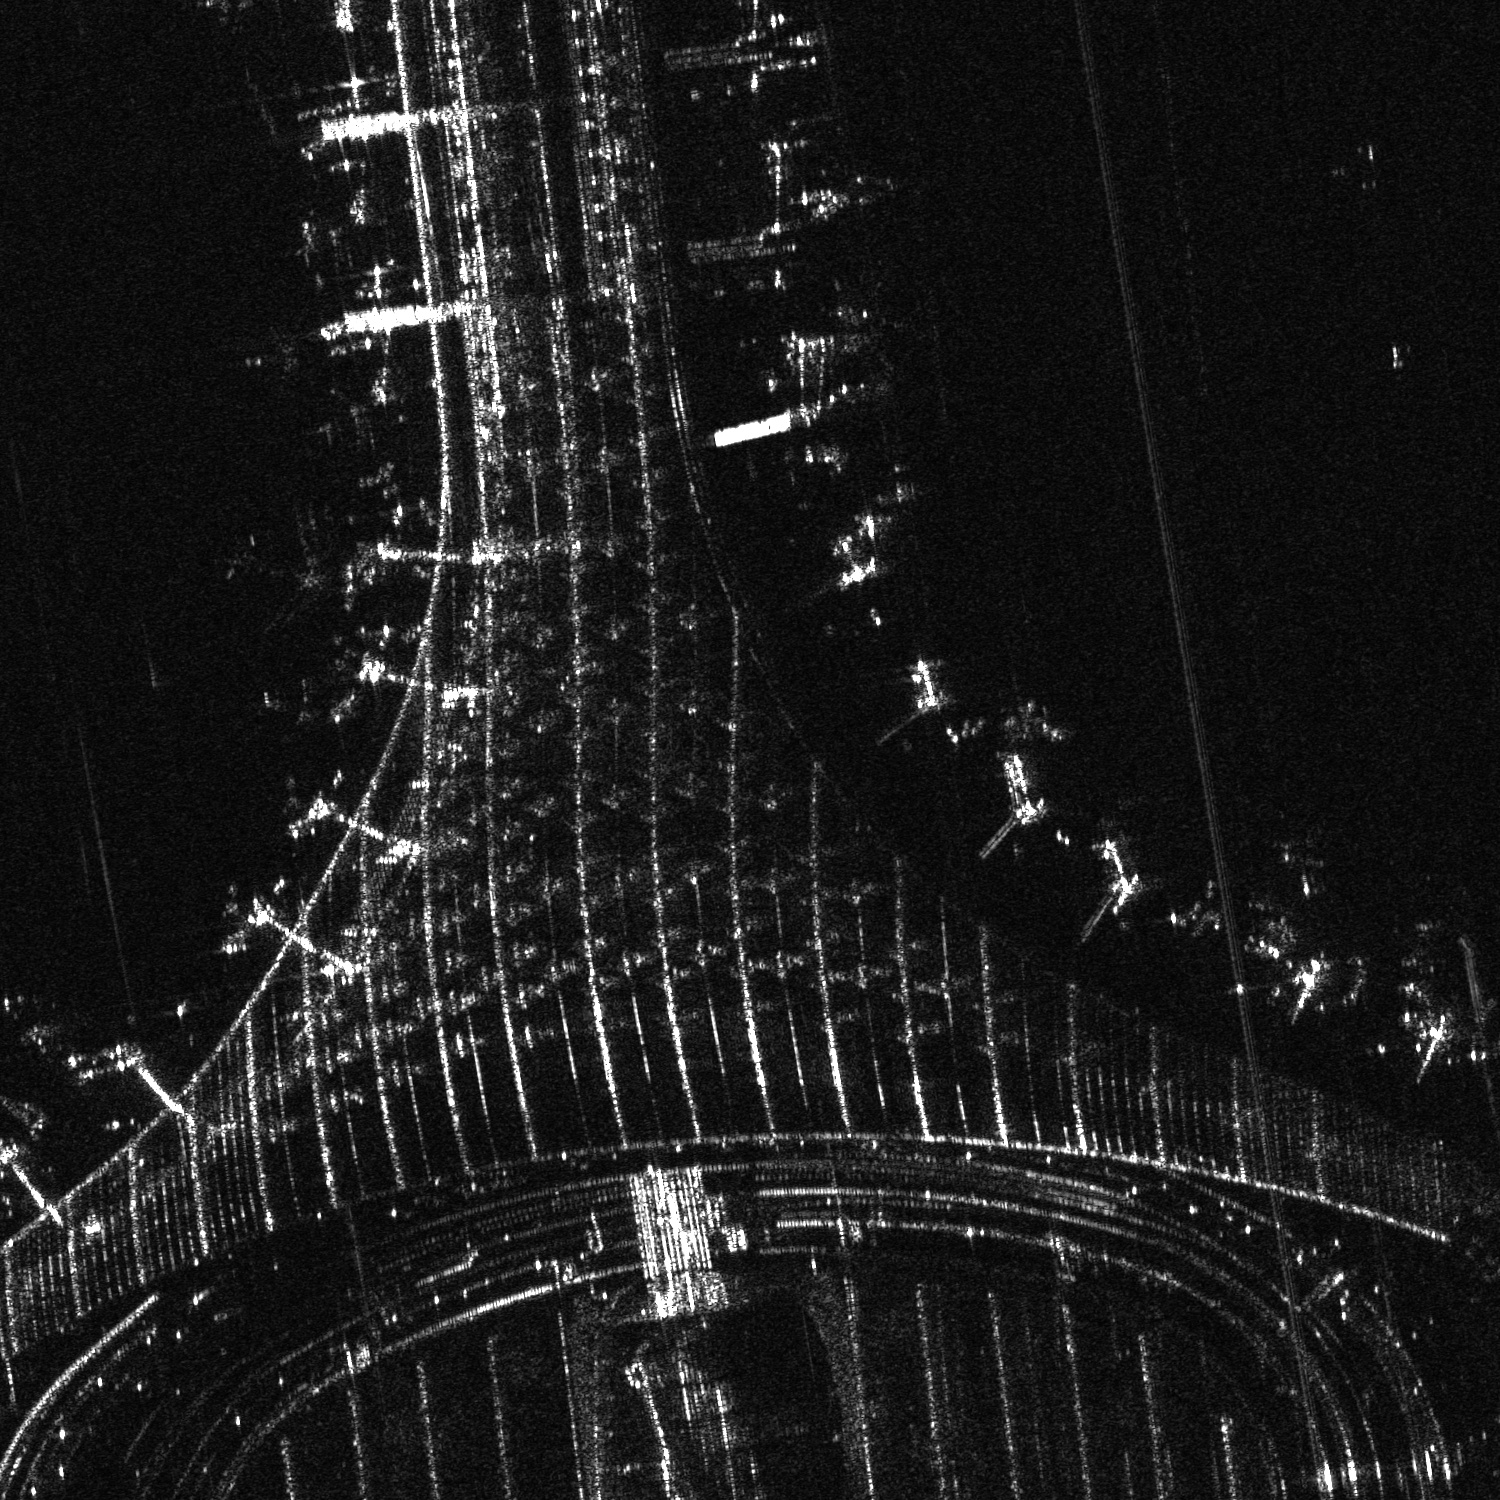A220: (262, 676, 327, 728)
Boeing787: (315, 386, 374, 451), (245, 323, 306, 383)
other: (224, 505, 339, 635)
